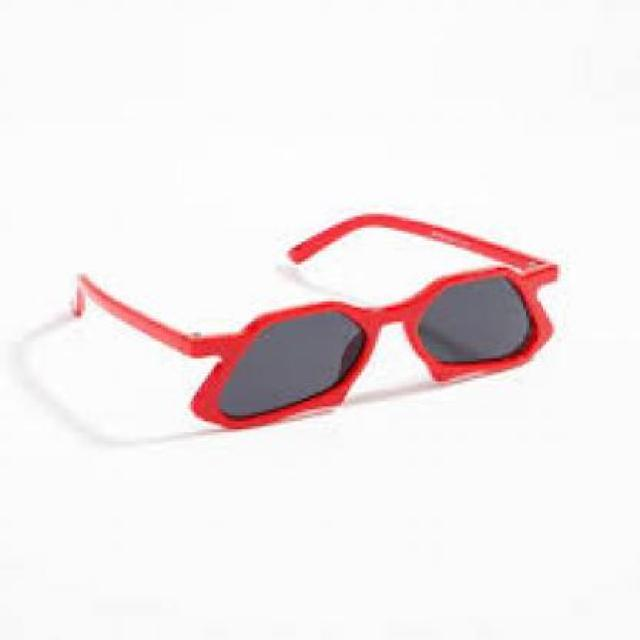gozluk: (151, 245, 572, 466)
